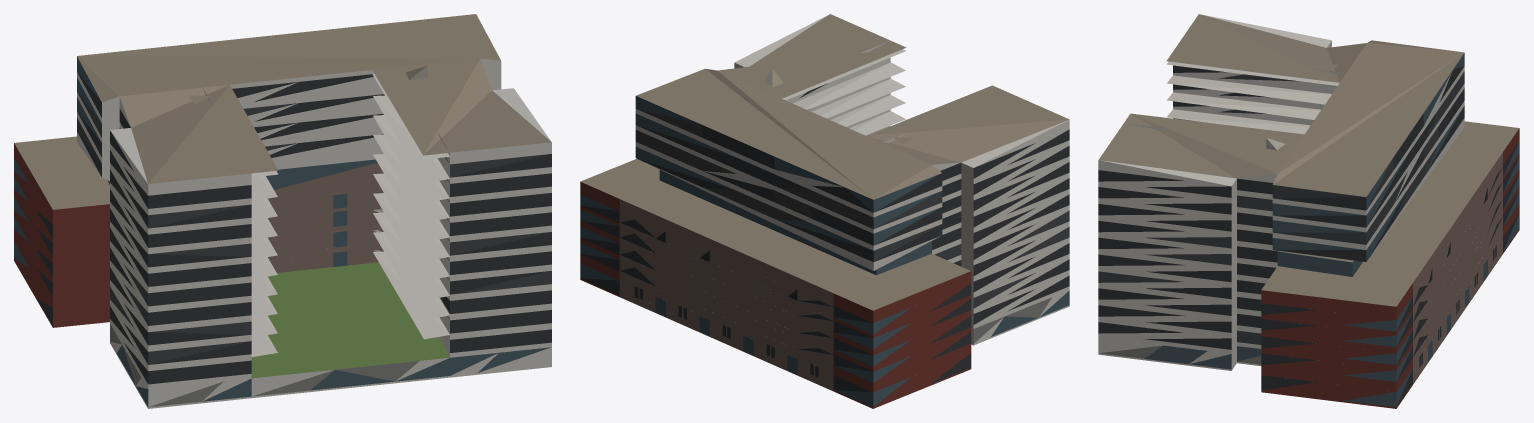
The model's file is pakhuis-australie.lod2.glb.
3 views of the same model, side by side, from view 1: azimuth 30°, elevation 25°; view 2: azimuth 150°, elevation 25°; view 3: azimuth 270°, elevation 25° (orthographic). The views are drawn at different scales.
Parts seen in each view (by area): view 1: lod2; view 2: lod2; view 3: lod2.
Boxes of the visible parts, x1,y1,x2,y2 form: lod2: (14, 14, 551, 408); lod2: (580, 14, 1069, 408); lod2: (1098, 14, 1519, 408).
Size of the model in its own units: 75.06 by 35.9 by 66.66.
